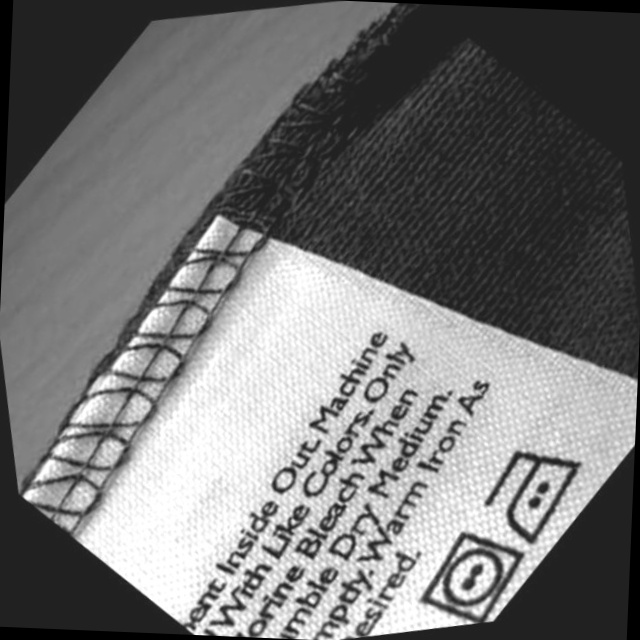iron_medium: (476, 437, 600, 551)
tumble_dry_medium: (411, 521, 538, 632)
